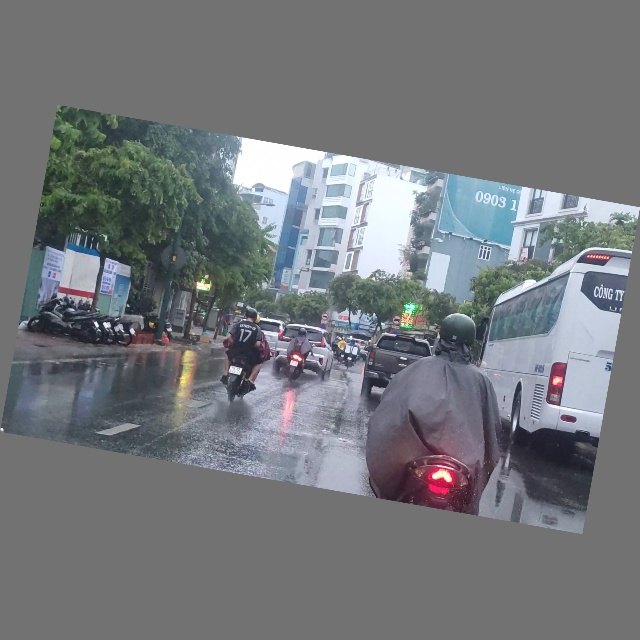P.106a*Xe tai: (391, 315, 402, 326), (321, 314, 329, 322)
